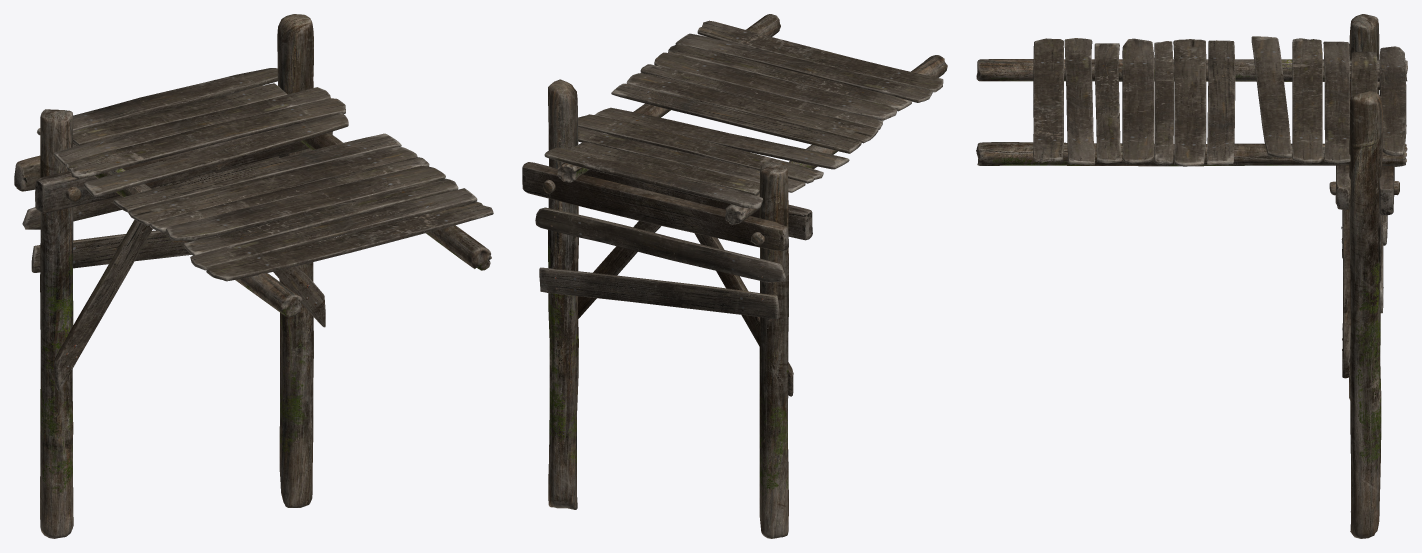
File: pier_b.obj
3 views of the same model, side by side, from view 1: azimuth 30°, elevation 25°; view 2: azimuth 150°, elevation 25°; view 3: azimuth 270°, elevation 25° (orthographic). The views are drawn at different scales.
Parts seen in each view (by area): view 1: pier_b; view 2: pier_b; view 3: pier_b.
Part boxes in pixels (x1,y1,x2,y2): pier_b: (14,14,493,538); pier_b: (522,14,947,538); pier_b: (976,14,1407,538).
Bounding box in the file's own units: 2.51 × 3.84 × 3.39.
2 materials, 2 textured.
